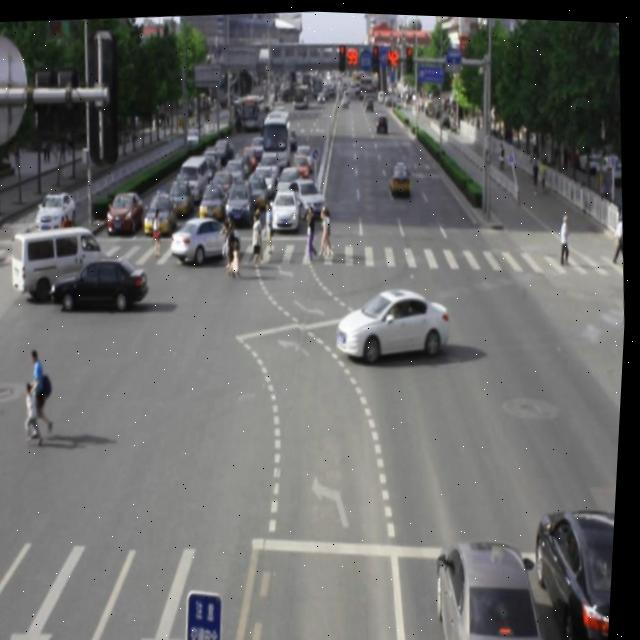car: (525, 489, 621, 640), (429, 523, 547, 640), (336, 276, 455, 362), (53, 249, 155, 313), (171, 210, 244, 263)
